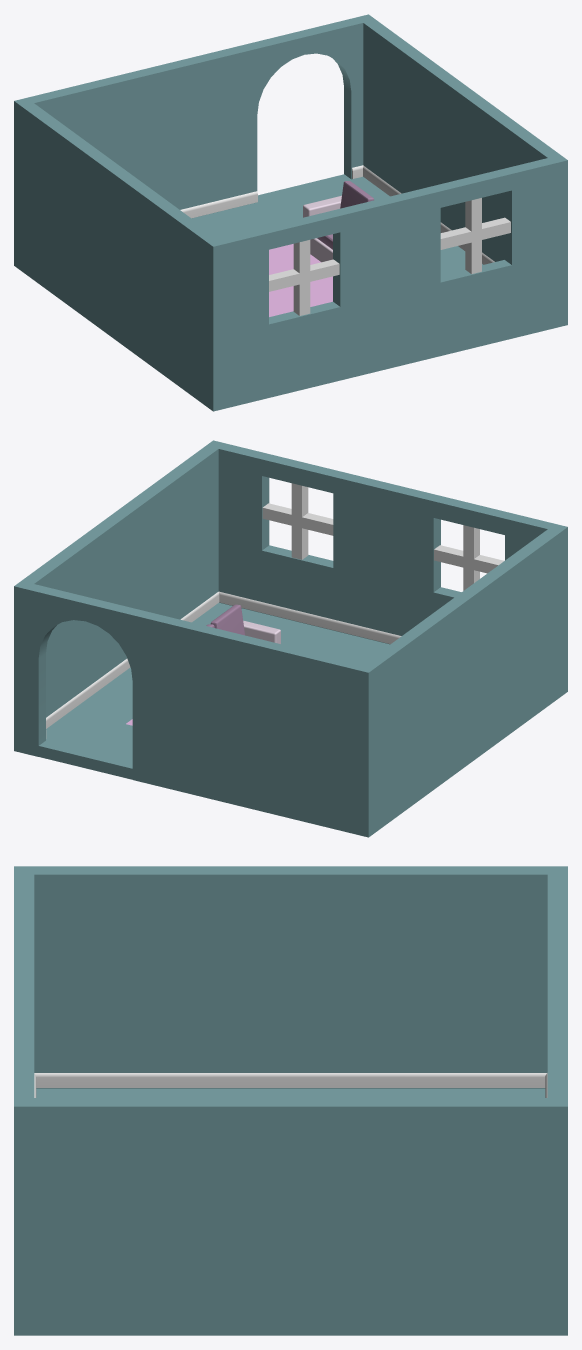
The model's file is Livingroom.fbx.
3 renders of one model, top to bottom at view 1: azimuth 30°, elevation 25°; view 2: azimuth 150°, elevation 25°; view 3: azimuth 270°, elevation 25°, orthographic. The views are drawn at different scales.
Visible parts, largest first — view 1: Room, floor, Sofa; view 2: Room, Sofa; view 3: Room.
Part boxes in pixels (x1,y1,x2,y2): Room: [14, 14, 567, 411]; floor: [269, 244, 332, 316]; Sofa: [303, 181, 373, 262]; Room: [14, 440, 567, 837]; Sofa: [206, 604, 280, 643]; Room: [14, 866, 567, 1335].
Size of the model in its own units: 33.9 by 15.05 by 32.99.
